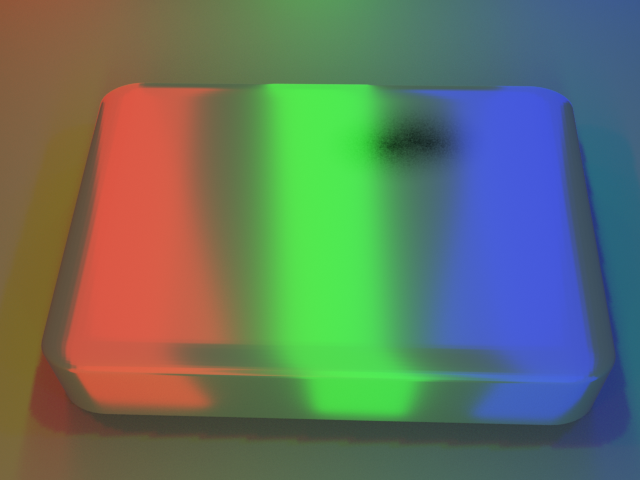stain: (311, 72, 546, 194)
